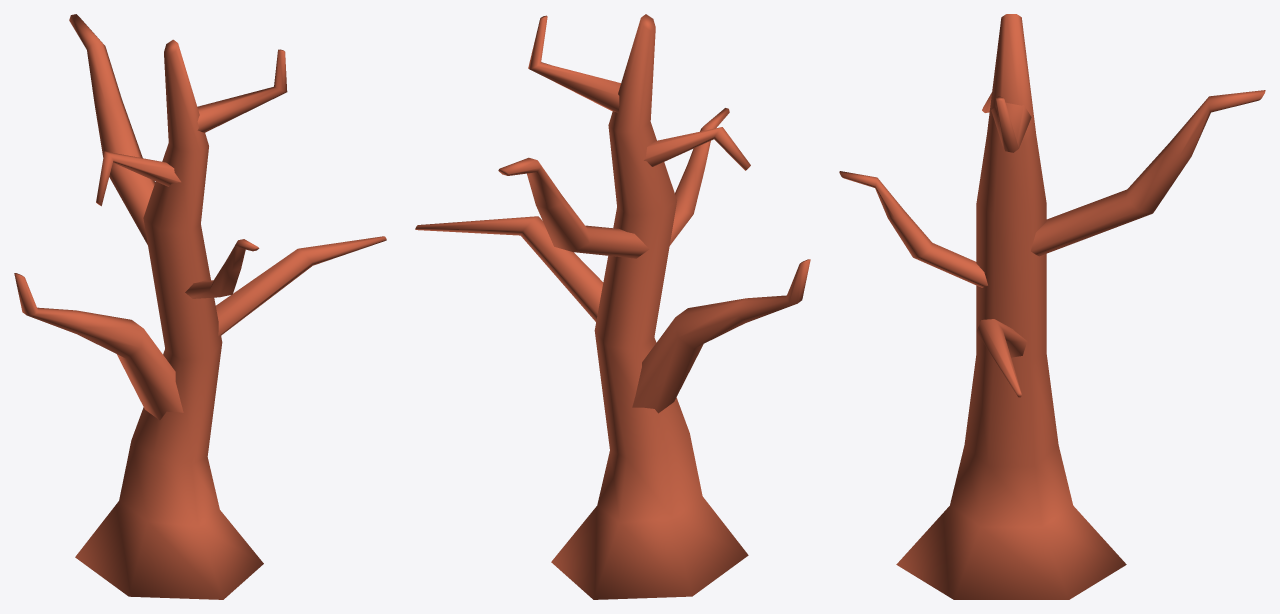
The model's file is tree.fbx.
The picture shows the model from 3 angles, left to right: view 1: azimuth 30°, elevation 25°; view 2: azimuth 150°, elevation 25°; view 3: azimuth 270°, elevation 25°; orthographic projection. The views are drawn at different scales.
Parts seen in each view (by area): view 1: Circle; view 2: Circle; view 3: Circle.
Boxes of the visible parts, left/top/right/bottom form: Circle: left=14, top=14, right=386, bottom=599; Circle: left=415, top=14, right=810, bottom=599; Circle: left=839, top=14, right=1265, bottom=599.
Bounding box in the file's own units: 455 × 602 × 420.
